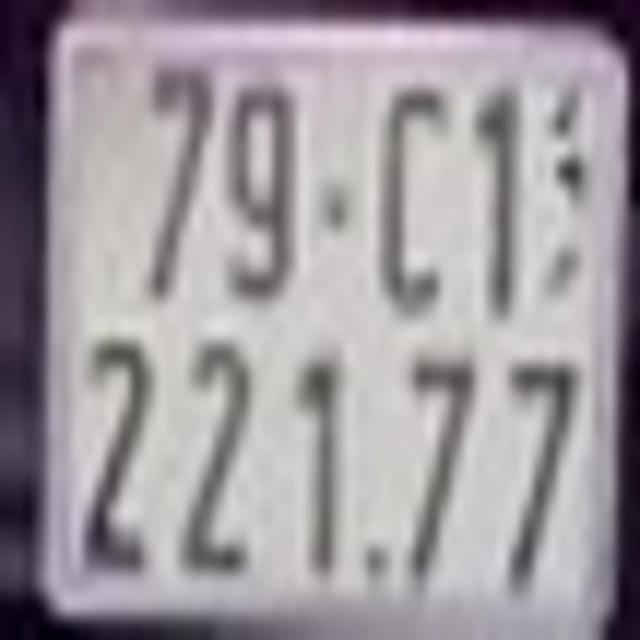1: (471, 87, 532, 328), (290, 364, 356, 578)
2: (86, 338, 154, 581), (184, 340, 254, 574)
7: (498, 344, 593, 601), (131, 67, 205, 303), (403, 355, 472, 576)
9: (215, 90, 308, 300)
C: (372, 100, 456, 320)
